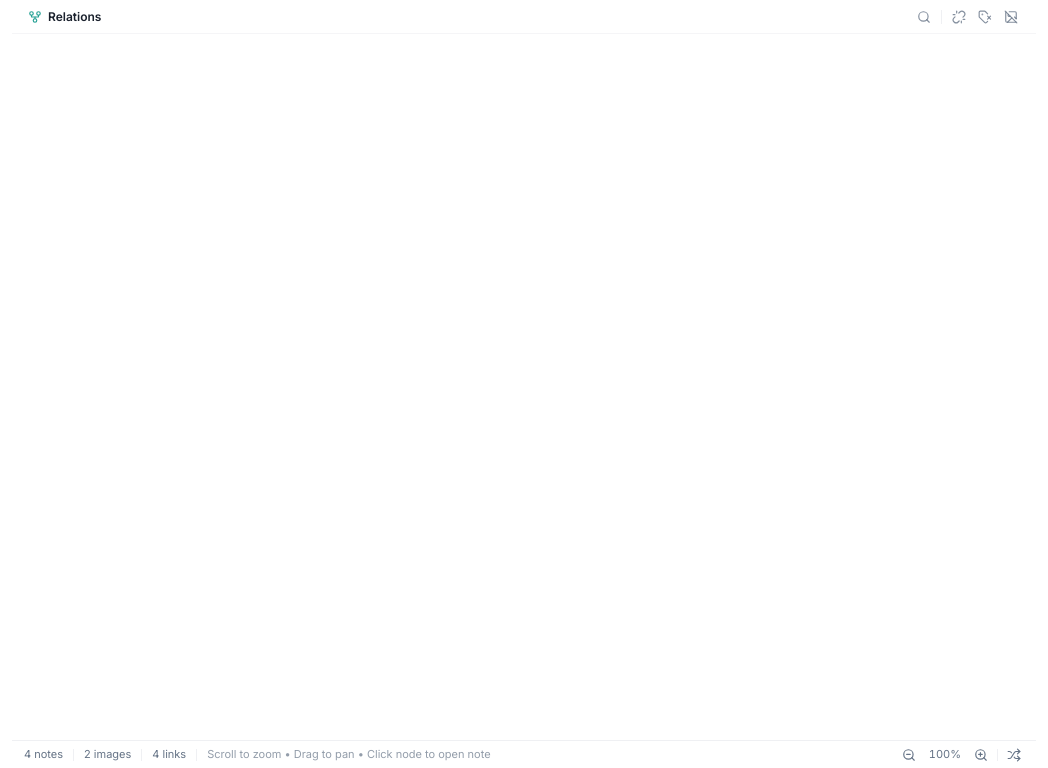
RelationsView › toggles image nodes visibility when clicking the image toggle button
The image size is (1048, 768).
expect the text "2 images" is shown: met, box [84, 746, 131, 763]
Click the button named "Hide media in graph" at (1011, 16), box [1000, 6, 1022, 28]
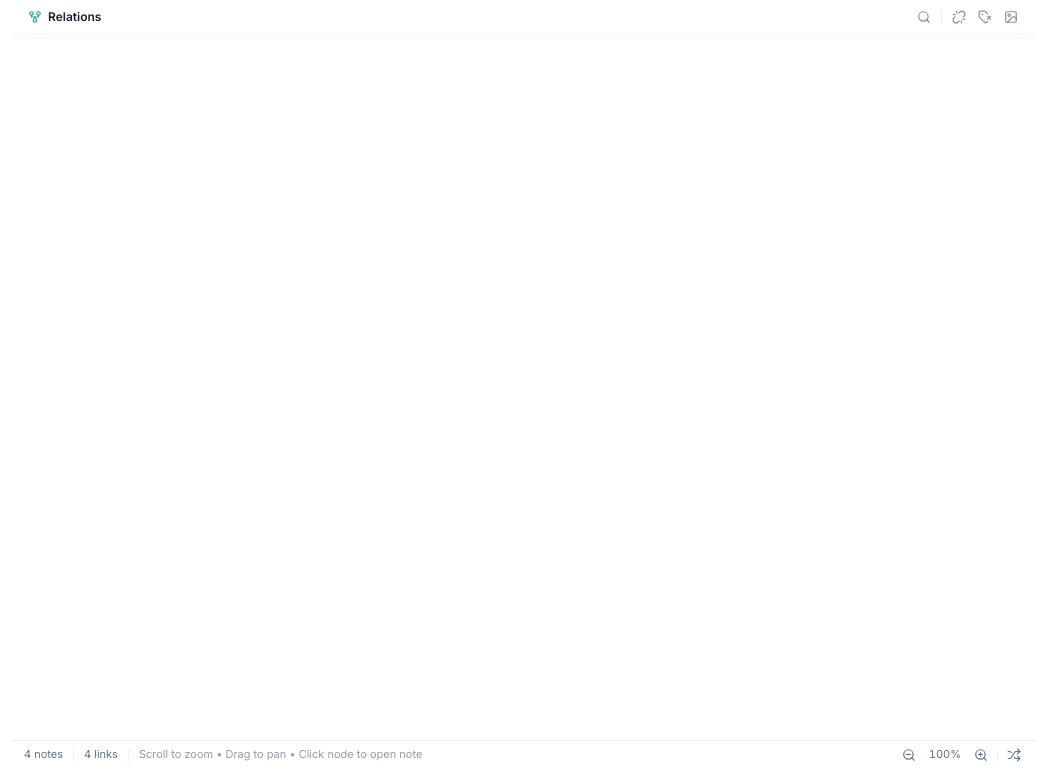
expect the text "2 images" is gone: met
Note: Click again to show images
Click the button named "Show media in graph" at (1011, 16), box [1000, 6, 1022, 28]
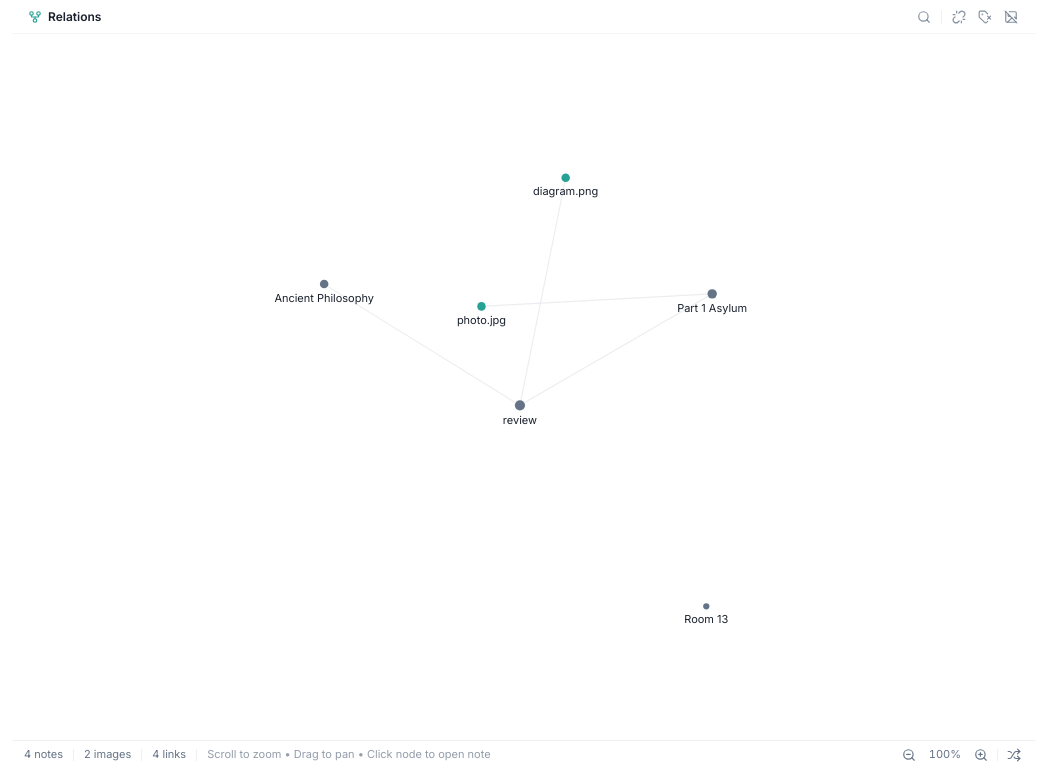
expect the text "2 images" is shown: met, box [84, 746, 131, 763]
